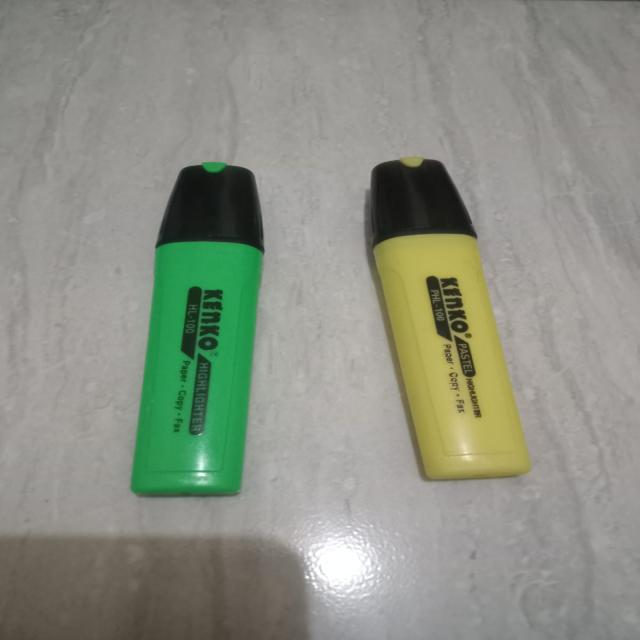highlighter: (344, 138, 549, 492), (102, 142, 294, 508)
